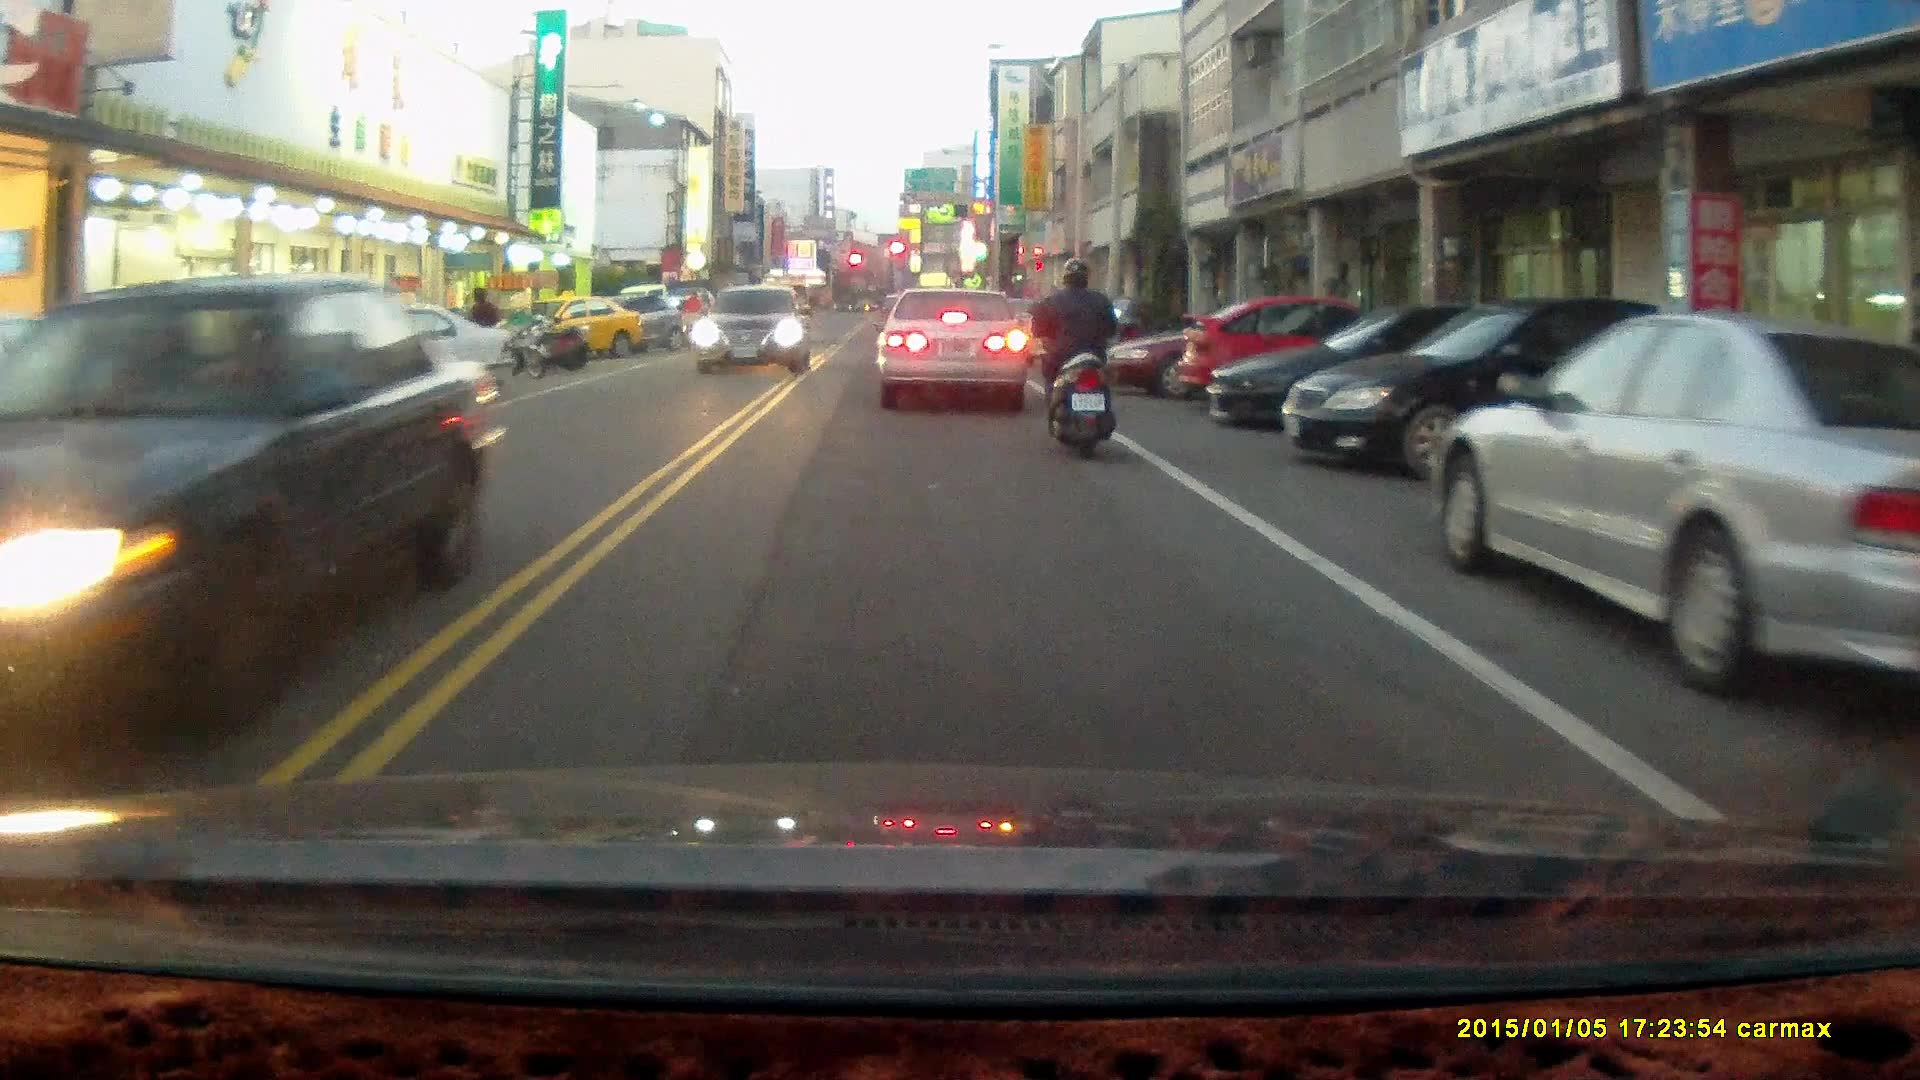pedestrian: (465, 286, 497, 367)
rider: (1029, 254, 1123, 460), (676, 290, 707, 360)
vehicle: (1, 276, 505, 739), (1431, 313, 1920, 700), (1279, 296, 1668, 480), (1203, 307, 1582, 443), (260, 303, 509, 420), (1173, 301, 1408, 419), (873, 287, 1028, 413), (696, 285, 813, 380), (522, 290, 645, 363)
